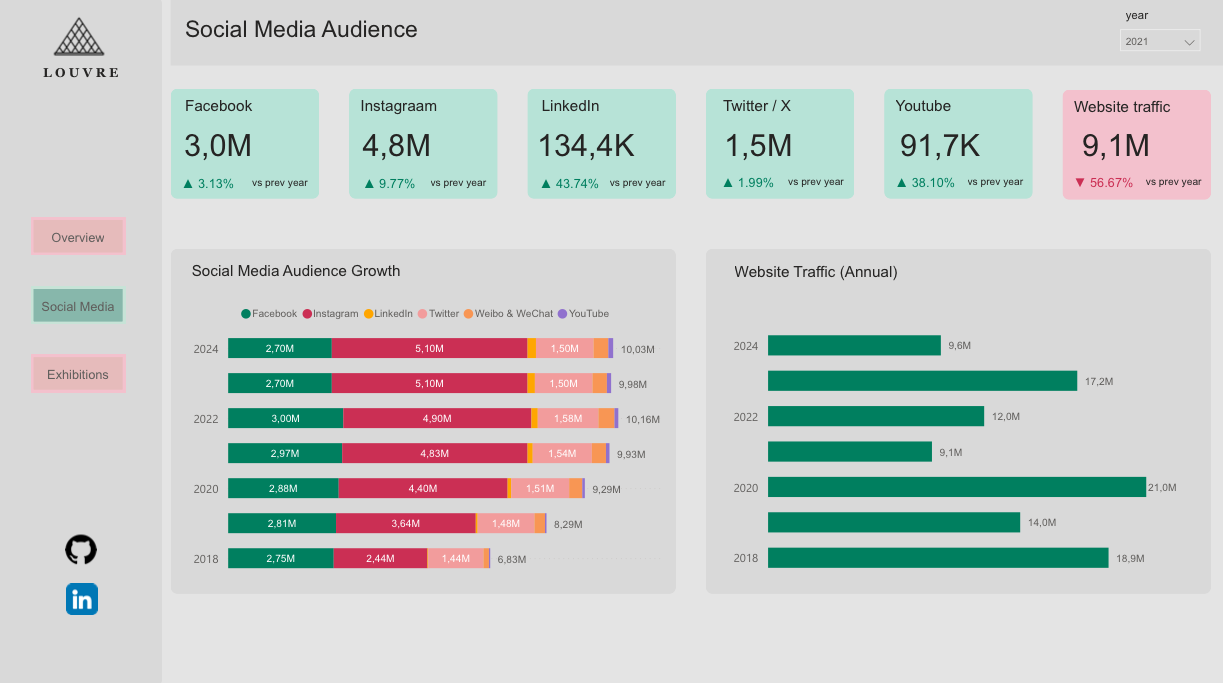

What the dashboard file says about the page in this screenshot:
{"tool":"powerbi","page":{"name":"Social Media","canvas":[1280,720],"ordinal":1},"visuals":[{"type":"shape","box":[738.1,262.6,527.1,360.5],"z":0},{"type":"shape","box":[180.2,262.6,527.1,360.5],"z":1000},{"type":"shape","box":[366,96,155,115],"z":2000},{"type":"barChart","fields":{"Category":["year.year"],"Y":["Sum(social_followers.followers_count)"],"Series":["social_platform.platform_name"]},"box":[197.4,311.5,500.8,301.6],"z":3000},{"type":"barChart","fields":{"Category":["year.year"],"Y":["Sum(site_visits.visits_count)"]},"box":[759.8,336,474.6,277.1],"z":4000},{"type":"shape","box":[0,0,171,720],"z":5000},{"type":"textbox","box":[180,0,1100,72],"z":6000},{"type":"slicer","fields":{"Values":["year.year"]},"box":[1160,24,104,40],"z":7000},{"type":"textbox","box":[1168,0,88,32],"z":8000},{"type":"shape","box":[180,96,155,115],"z":9000},{"type":"card","fields":{"Values":["social_followers.Facebook"]},"box":[171.2,122,116.8,63.4],"z":10000},{"type":"textbox","box":[186.6,96,113.2,39.8],"z":11000},{"type":"shape","box":[552,96,155,115],"z":12000},{"type":"card","fields":{"Values":["social_followers.LinkedIn"]},"box":[552.5,122,121.4,63.4],"z":13000},{"type":"textbox","box":[558.6,96,152,40],"z":14000},{"type":"shape","box":[738,96,155,115],"z":15000},{"type":"card","fields":{"Values":["social_followers.Twitter/X"]},"box":[729,122,128,64],"z":16000},{"type":"textbox","box":[748.4,96,152,40],"z":17000},{"type":"card","fields":{"Values":["social_followers.Instagram"]},"box":[352,122,127.7,63.4],"z":18000},{"type":"textbox","box":[370.4,96,152.2,39.8],"z":19000},{"type":"shape","box":[924.2,96,155,115],"z":20000},{"type":"card","fields":{"Values":["social_followers.Youtube"]},"box":[918,122,128.6,63.4],"z":21000},{"type":"textbox","box":[928.4,96,152,40],"z":22000},{"type":"shape","box":[1110,96.9,155,115],"z":23000},{"type":"card","fields":{"Values":["Sum(site_visits.visits_count)"]},"box":[1102,122,127.7,63.4],"z":24000},{"type":"textbox","box":[1114,96.9,152,40],"z":25000},{"type":"textbox","box":[762.6,272.6,300.7,29.9],"z":26000},{"type":"card","fields":{"Values":["site_visits.Site visitor vs Prev Label"]},"box":[1105,175,96,39.8],"z":27000},{"type":"textbox","box":[1192,175,79.7,30.8],"z":28000},{"type":"card","fields":{"Values":["social_followers.Facebook vs Prev Label"]},"box":[171.2,175.7,96,39.8],"z":29000},{"type":"textbox","box":[260,175.7,79.7,30.8],"z":30000},{"type":"card","fields":{"Values":["social_followers.Instagram vs Prev Label"]},"box":[369,175.7,77.9,39.8],"z":31000},{"type":"textbox","box":[446,175.7,79.7,30.8],"z":32000},{"type":"card","fields":{"Values":["social_followers.LinkedIn vs Prev Label"]},"box":[548,175.7,96,39.8],"z":33000},{"type":"textbox","box":[633,175.7,79.7,30.8],"z":34000},{"type":"card","fields":{"Values":["social_followers.Youtube vs Prev Label"]},"box":[919,175,96,39.8],"z":35000},{"type":"textbox","box":[1006,175,79.7,30.8],"z":36000},{"type":"card","fields":{"Values":["social_followers.Twitter vs Prev Label"]},"box":[733.6,175,96,39.8],"z":37000},{"type":"textbox","box":[819,175,79.7,30.8],"z":38000},{"type":"actionButton","box":[33.5,302.4,99.6,39.8],"z":39000},{"type":"actionButton","box":[33.5,373,99.6,39.8],"z":40000},{"type":"actionButton","box":[33.5,229.9,99.6,39.8],"z":41000},{"type":"image","box":[57.1,10.9,55.2,61.6],"z":42000},{"type":"textbox","box":[42,64,107,37],"z":43000},{"type":"textbox","box":[197.4,271.7,300.7,39.8],"z":44000},{"type":"image","box":[65,559.7,42.6,33.5],"z":44001},{"type":"image","box":[62,612,49.8,33],"z":44002}]}

Visuals, with their boxes in screenshot pixels (x1, y1, x2, y2), scaled from the page's 1280x720 canvas onto the 1223x683 screenshot:
shape: select_region(705, 249, 1209, 591)
shape: select_region(172, 249, 676, 591)
shape: select_region(350, 91, 498, 200)
barChart - year.year x Sum(social_followers.followers_count): select_region(189, 295, 667, 582)
barChart - year.year x Sum(site_visits.visits_count): select_region(726, 319, 1179, 582)
shape: select_region(0, 0, 163, 682)
textbox: select_region(172, 0, 1222, 68)
slicer - year.year: select_region(1108, 23, 1208, 61)
textbox: select_region(1116, 0, 1200, 30)
shape: select_region(172, 91, 320, 200)
card - social_followers.Facebook: select_region(164, 116, 275, 176)
textbox: select_region(178, 91, 286, 129)
shape: select_region(527, 91, 676, 200)
card - social_followers.LinkedIn: select_region(528, 116, 644, 176)
textbox: select_region(534, 91, 679, 129)
shape: select_region(705, 91, 853, 200)
card - social_followers.Twitter/X: select_region(697, 116, 819, 176)
textbox: select_region(715, 91, 860, 129)
card - social_followers.Instagram: select_region(336, 116, 458, 176)
textbox: select_region(354, 91, 499, 129)
shape: select_region(883, 91, 1031, 200)
card - social_followers.Youtube: select_region(877, 116, 1000, 176)
textbox: select_region(887, 91, 1032, 129)
shape: select_region(1061, 92, 1209, 201)
card - Sum(site_visits.visits_count): select_region(1053, 116, 1175, 176)
textbox: select_region(1064, 92, 1210, 130)
textbox: select_region(729, 259, 1016, 287)
card - site_visits.Site visitor vs Prev Label: select_region(1056, 166, 1148, 204)
textbox: select_region(1139, 166, 1215, 195)
card - social_followers.Facebook vs Prev Label: select_region(164, 167, 255, 204)
textbox: select_region(248, 167, 325, 196)
card - social_followers.Instagram vs Prev Label: select_region(353, 167, 427, 204)
textbox: select_region(426, 167, 502, 196)
card - social_followers.LinkedIn vs Prev Label: select_region(524, 167, 615, 204)
textbox: select_region(605, 167, 681, 196)
card - social_followers.Youtube vs Prev Label: select_region(878, 166, 970, 204)
textbox: select_region(961, 166, 1037, 195)
card - social_followers.Twitter vs Prev Label: select_region(701, 166, 793, 204)
textbox: select_region(783, 166, 859, 195)
actionButton: select_region(32, 287, 127, 325)
actionButton: select_region(32, 354, 127, 392)
actionButton: select_region(32, 218, 127, 256)
image: select_region(55, 10, 107, 69)
textbox: select_region(40, 61, 142, 96)
textbox: select_region(189, 258, 476, 295)
image: select_region(62, 531, 103, 563)
image: select_region(59, 581, 107, 612)
